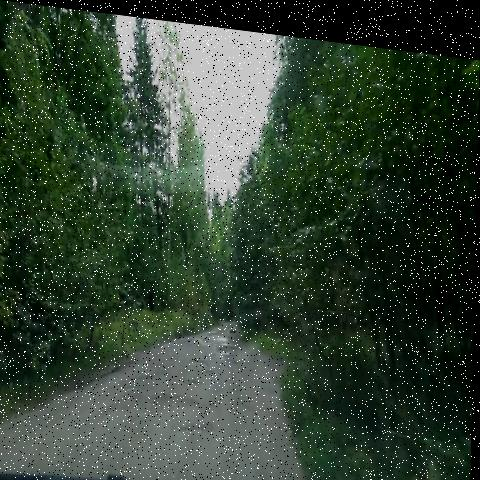pothole: (145, 365, 204, 420), (178, 401, 225, 444), (217, 324, 244, 369), (191, 342, 220, 379), (184, 358, 203, 391), (143, 361, 162, 388)
